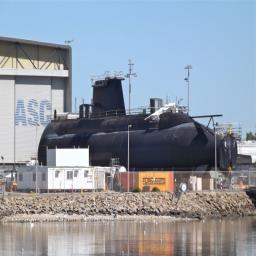submarine: (42, 74, 238, 173)
